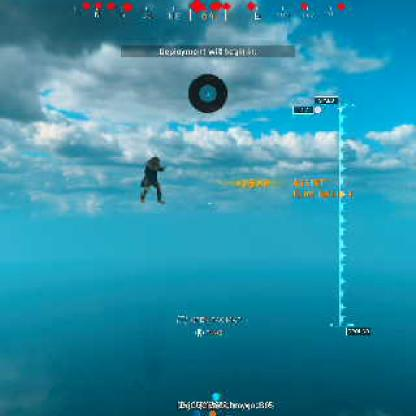enemy: (138, 155, 166, 204)
